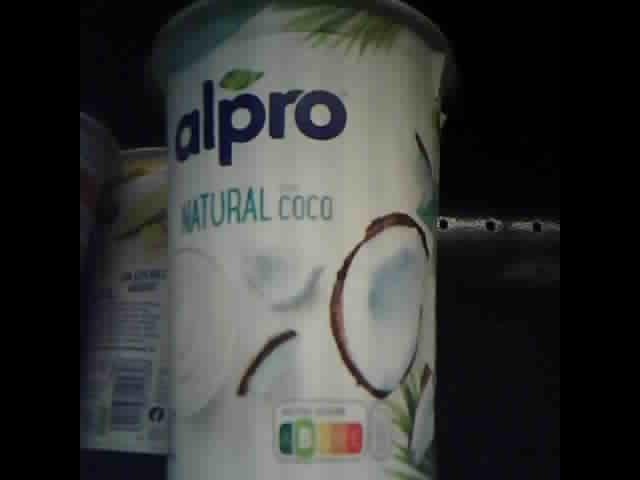alpro: (156, 2, 454, 480), (82, 145, 173, 458), (79, 108, 124, 270)
